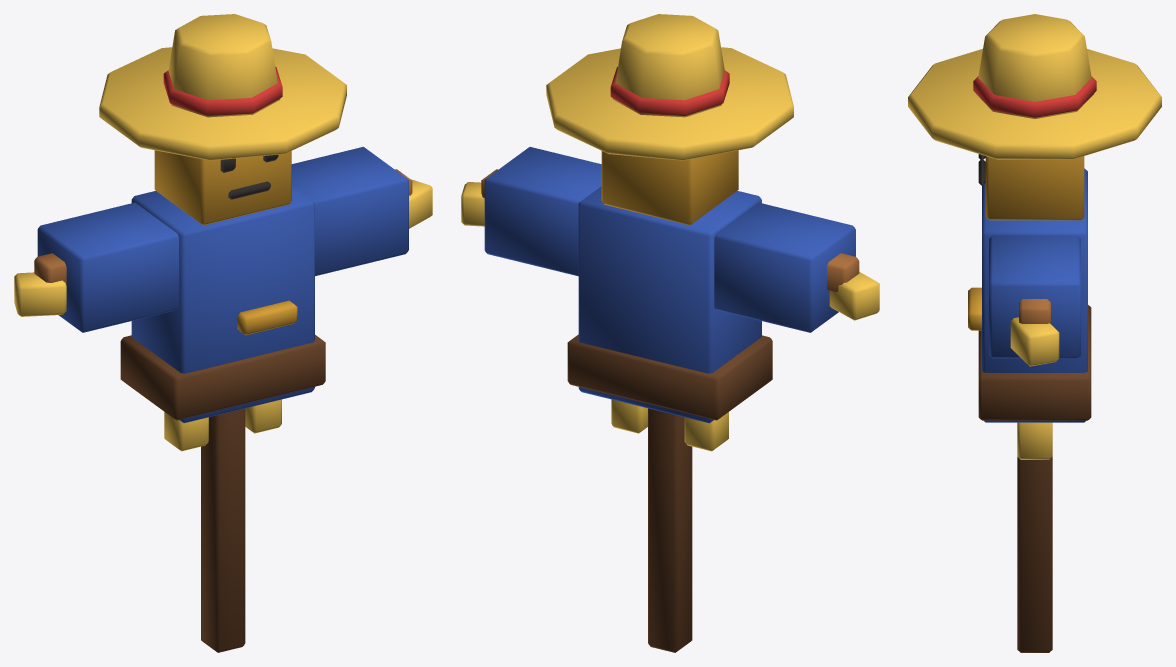
Rendered from P_MedScarecrow.fbx.
3 renders of one model, left to right at view 1: azimuth 30°, elevation 25°; view 2: azimuth 150°, elevation 25°; view 3: azimuth 270°, elevation 25°, orthographic.
Visible parts, largest first — view 1: M_Scarecrow; view 2: M_Scarecrow; view 3: M_Scarecrow.
Boxes of the visible parts, bbox=[...] form: M_Scarecrow: bbox=[14, 14, 432, 652]; M_Scarecrow: bbox=[461, 14, 879, 652]; M_Scarecrow: bbox=[908, 14, 1161, 652].
Size of the model in its own units: 1.36 by 1.92 by 0.72.
1 material, 1 textured.
